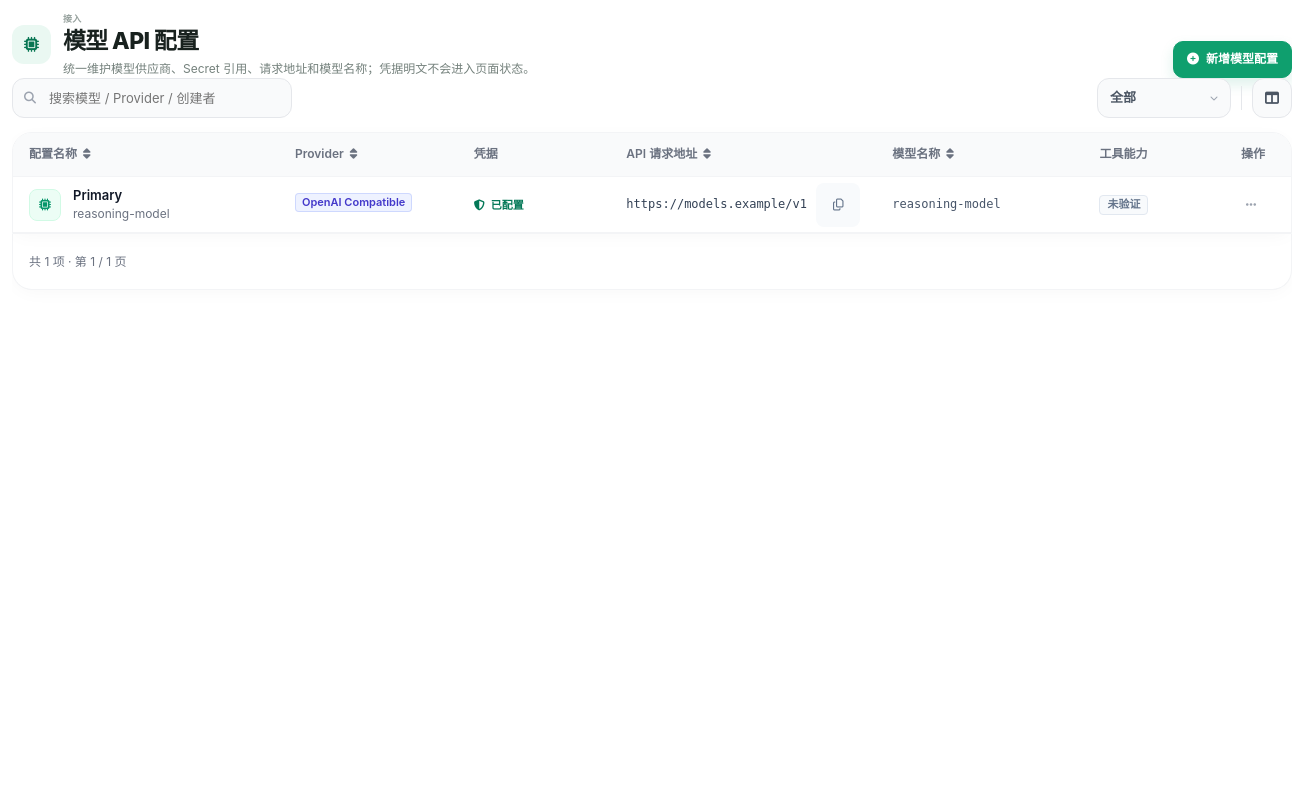
Test: model config v1 behavior › does not treat a failed probe latency as healthy
The width and height of the screenshot is (1304, 812).
Click the button named "更多操作" at (1251, 205), box x1=1233 y1=187 x2=1269 y2=223
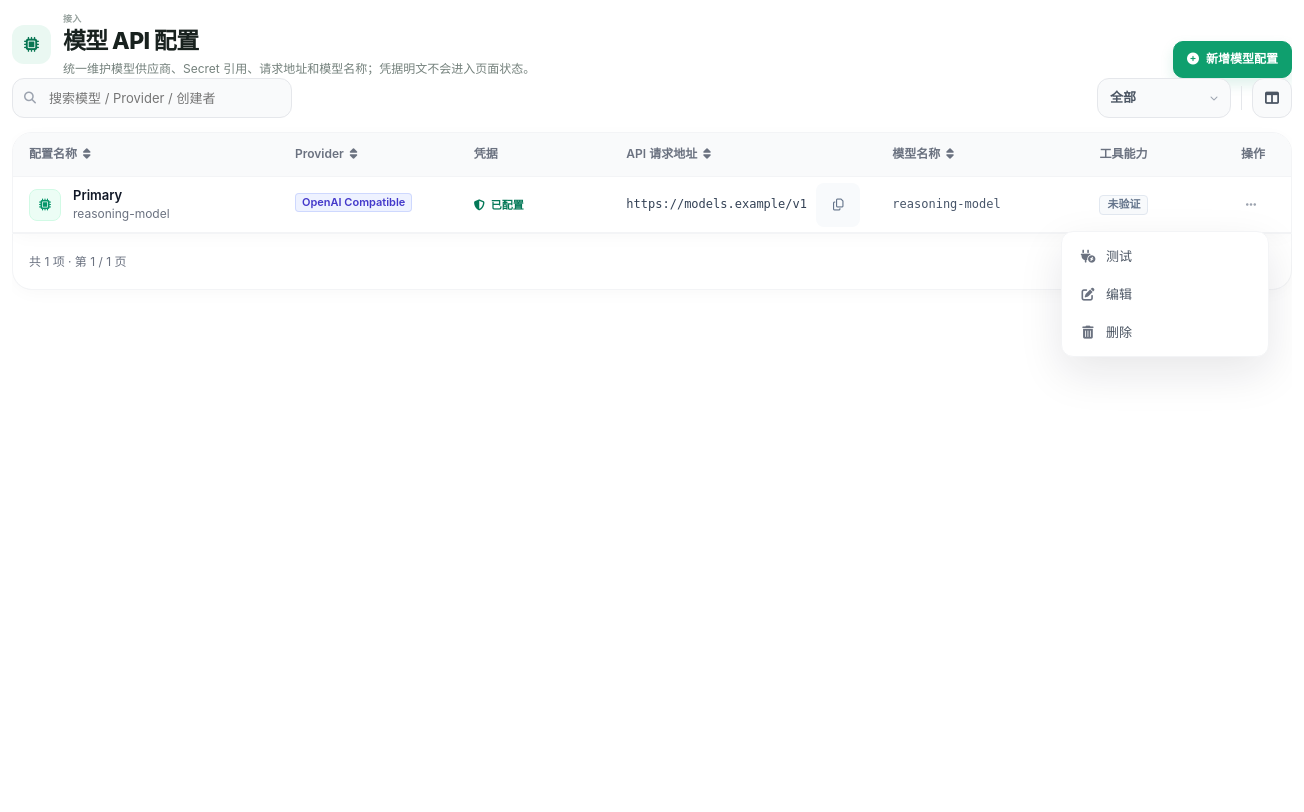
Click the menu item with aria-label "测试" at (1165, 256), box x1=1068 y1=238 x2=1262 y2=274
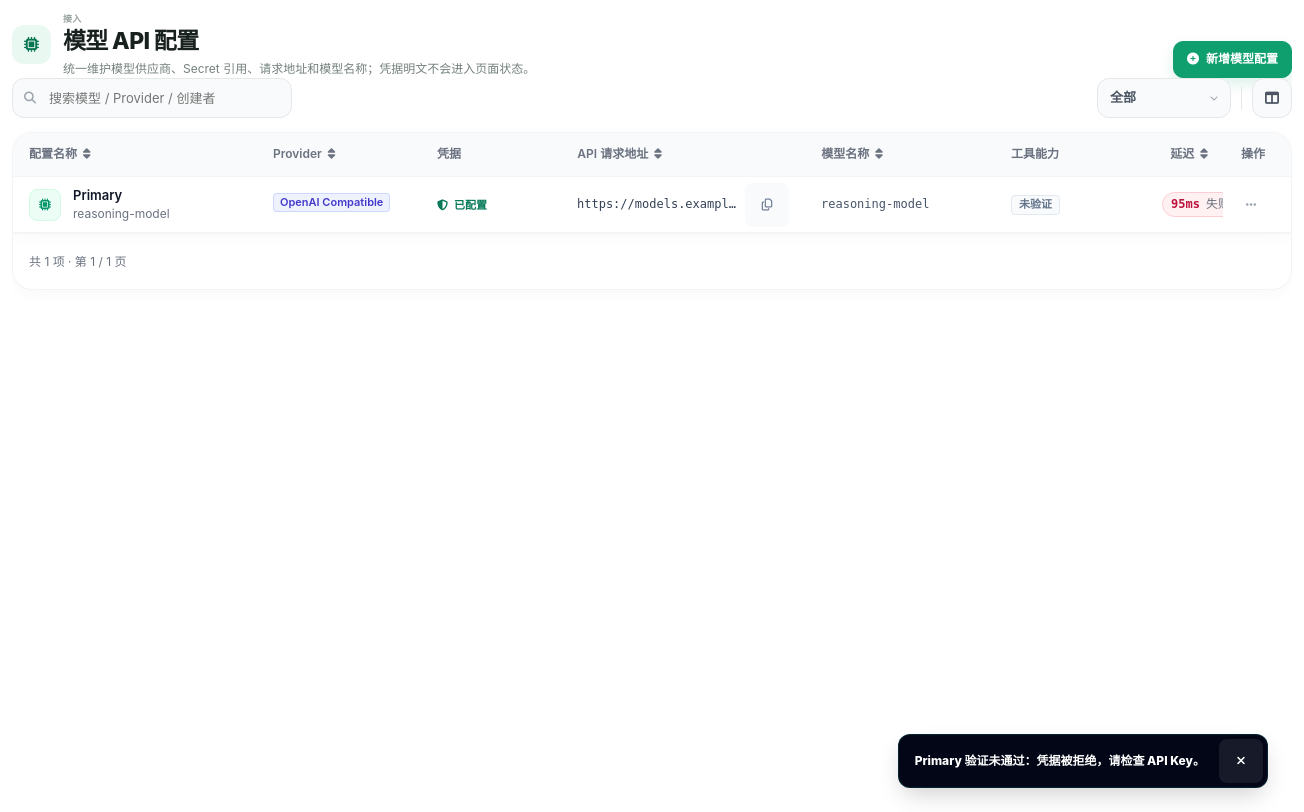
expect the element with test id "model-latency-badge" shows "95ms": met, box x1=1171 y1=198 x2=1200 y2=212
expect the element with test id "model-latency-badge" shows "失败": met, box x1=1206 y1=196 x2=1230 y2=212
expect the text "Primary 验证未通过：凭据被拒绝，请检查 API Key。" is shown: met, box x1=915 y1=752 x2=1205 y2=770
